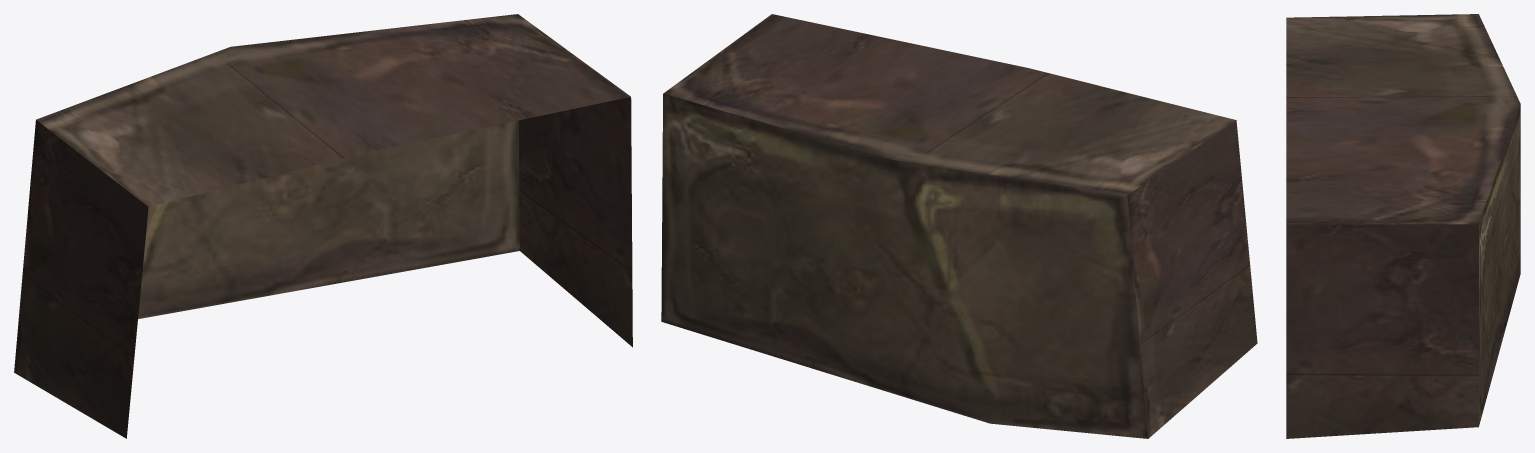
The model's file is wall_break_04.FBX.
3 renders of one model, left to right at view 1: azimuth 30°, elevation 25°; view 2: azimuth 150°, elevation 25°; view 3: azimuth 270°, elevation 25°, orthographic. The views are drawn at different scales.
Parts seen in each view (by area): view 1: wall_break_04; view 2: wall_break_04; view 3: wall_break_04.
Boxes of the visible parts, bbox=[...] form: wall_break_04: bbox=[14, 14, 632, 438]; wall_break_04: bbox=[661, 14, 1257, 438]; wall_break_04: bbox=[1286, 14, 1520, 438].
Bounding box in the file's own units: 1.22 × 0.6107 × 0.5759.
1 material, 1 textured.
